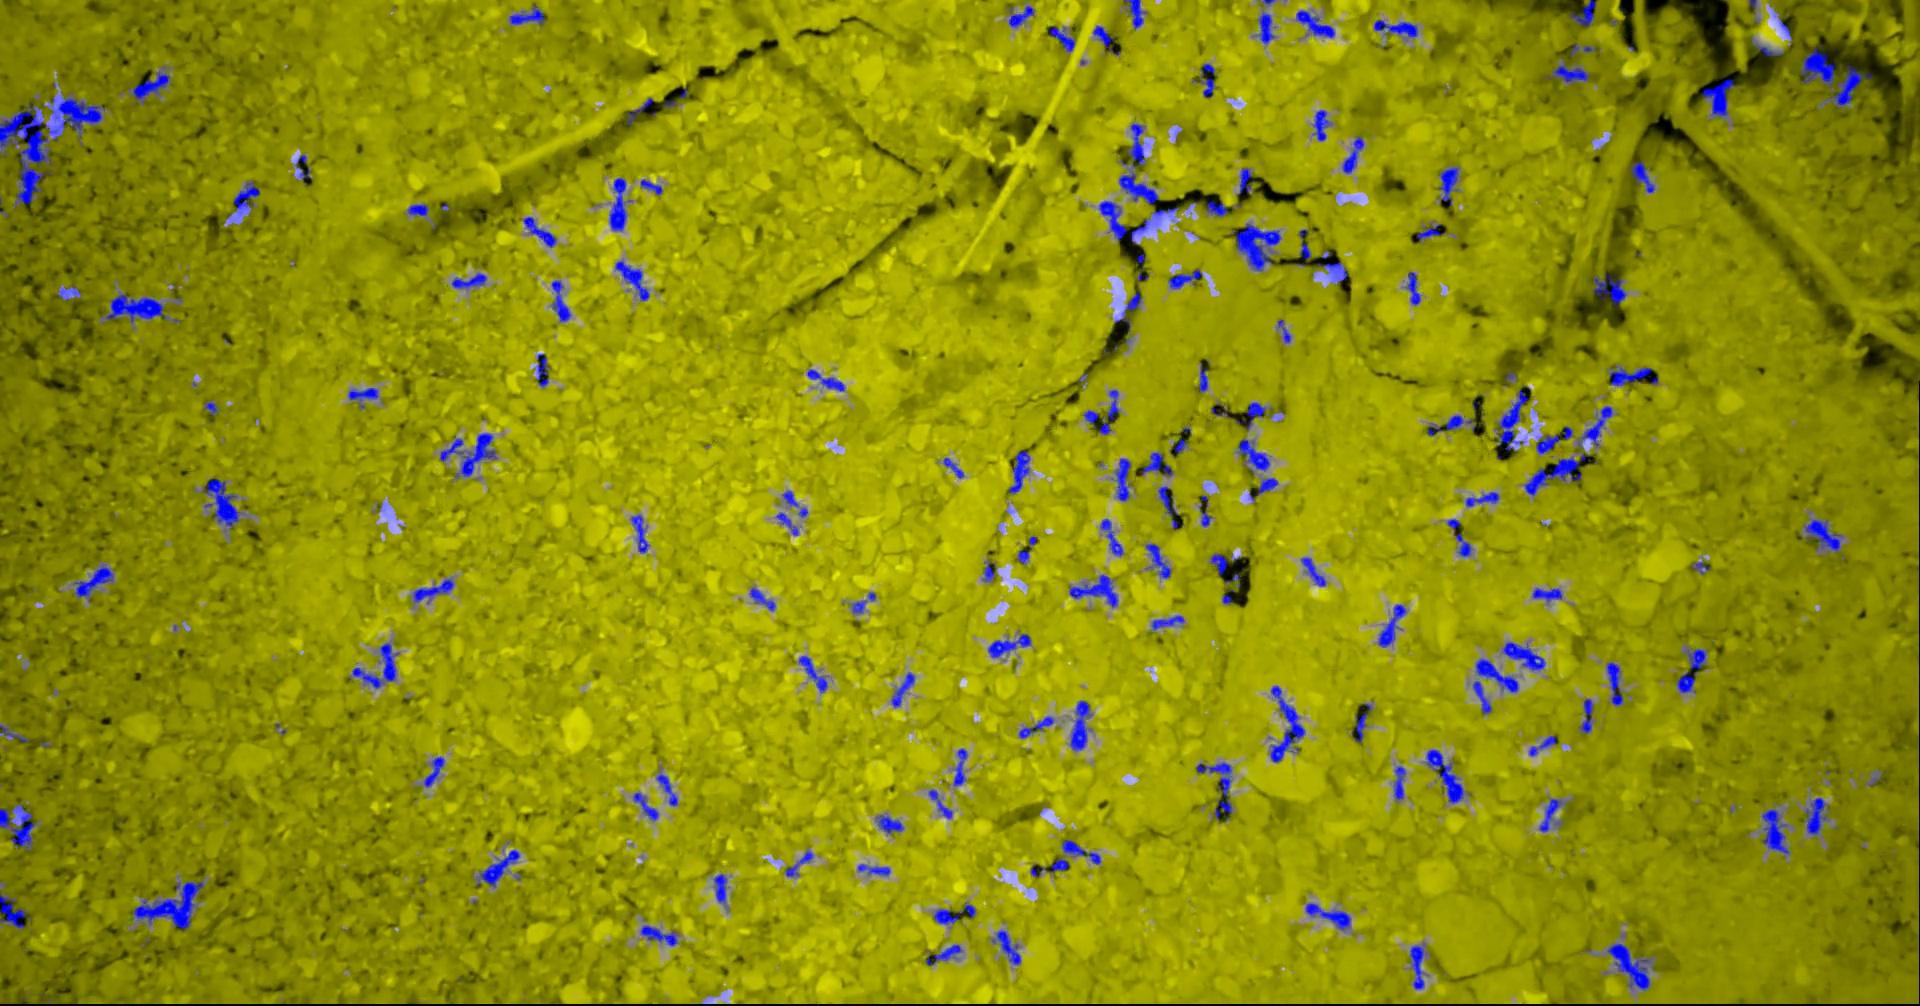ant: (1526, 453, 1592, 495), (1272, 685, 1305, 762), (441, 433, 497, 478), (1426, 749, 1470, 803), (353, 641, 401, 688), (1236, 224, 1283, 271), (1100, 199, 1150, 243), (1197, 762, 1233, 821), (1608, 942, 1651, 989), (103, 293, 171, 323), (1497, 389, 1529, 451), (204, 478, 241, 528), (477, 848, 521, 887), (1084, 389, 1120, 434), (1, 804, 37, 850), (1070, 574, 1119, 607), (75, 565, 116, 602), (1477, 658, 1520, 692), (1578, 406, 1614, 447), (616, 260, 651, 300), (1677, 648, 1708, 692), (1703, 77, 1736, 117), (131, 70, 171, 102), (1763, 808, 1790, 854), (1120, 173, 1161, 203), (1379, 605, 1408, 647), (1503, 641, 1547, 669), (1806, 520, 1843, 551), (1307, 903, 1352, 929), (1238, 438, 1271, 473), (1070, 700, 1093, 749), (1, 893, 33, 929), (1594, 273, 1628, 305), (800, 655, 829, 692), (1537, 426, 1575, 453), (1297, 10, 1336, 37), (989, 633, 1032, 657), (1116, 291, 1142, 332), (414, 578, 455, 603), (524, 216, 557, 246), (993, 930, 1022, 964), (1449, 518, 1474, 558), (1545, 61, 1591, 83), (1159, 486, 1183, 527), (611, 177, 629, 231), (1611, 365, 1658, 385), (1063, 840, 1102, 864), (1010, 450, 1031, 493), (1429, 415, 1477, 434), (1804, 796, 1829, 835), (1147, 542, 1172, 578), (1236, 401, 1267, 429), (1540, 798, 1567, 831), (234, 180, 262, 211), (1343, 135, 1365, 173), (1439, 166, 1460, 205), (1095, 25, 1123, 55), (893, 672, 916, 708), (1020, 715, 1055, 738), (552, 279, 571, 321), (1112, 459, 1131, 500), (935, 904, 977, 923), (809, 370, 846, 391), (1102, 518, 1124, 555), (927, 944, 964, 965), (1630, 161, 1656, 192), (1375, 19, 1418, 37), (1608, 662, 1625, 705), (1143, 452, 1175, 476), (510, 4, 547, 24), (643, 925, 679, 945), (634, 793, 660, 821), (787, 850, 815, 876), (1032, 857, 1070, 876), (1195, 64, 1217, 97), (1129, 123, 1145, 166), (629, 97, 654, 124), (1302, 558, 1327, 586), (658, 774, 679, 805), (1571, 0, 1597, 25), (632, 514, 650, 553), (930, 789, 952, 818), (1318, 260, 1349, 282), (1050, 25, 1076, 51), (1170, 269, 1203, 288), (1474, 680, 1493, 713), (1411, 945, 1425, 989), (425, 756, 446, 786), (750, 587, 777, 610), (1258, 11, 1277, 43), (1125, 0, 1147, 28), (1752, 37, 1785, 55), (349, 387, 380, 406), (1010, 5, 1036, 27), (1406, 271, 1422, 305), (453, 272, 488, 288), (1314, 109, 1332, 140), (1018, 535, 1037, 563), (1530, 735, 1558, 754), (877, 814, 905, 833), (777, 512, 800, 535), (1, 724, 30, 742), (955, 748, 969, 785), (1153, 615, 1185, 630), (1418, 224, 1448, 240), (1467, 492, 1500, 506), (297, 154, 312, 183), (1239, 166, 1256, 193), (1581, 699, 1594, 733), (1534, 587, 1564, 601), (858, 862, 891, 875), (945, 457, 965, 478), (1355, 713, 1369, 742), (538, 353, 550, 387), (1396, 765, 1407, 799), (1211, 553, 1229, 574), (1208, 199, 1230, 216), (715, 874, 728, 903), (58, 285, 83, 300), (1258, 478, 1279, 495), (1300, 229, 1312, 259), (1571, 43, 1597, 56), (643, 179, 664, 194), (1279, 319, 1291, 342), (1156, 206, 1180, 217), (783, 490, 801, 506), (1200, 362, 1209, 391), (1171, 438, 1187, 453), (409, 203, 430, 215), (984, 561, 997, 580), (1693, 561, 1710, 574), (853, 600, 869, 614), (206, 401, 220, 414), (1224, 588, 1236, 603), (1203, 511, 1211, 526)
